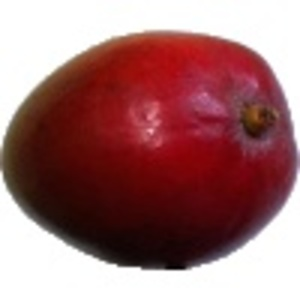manga: (1, 28, 300, 270)
